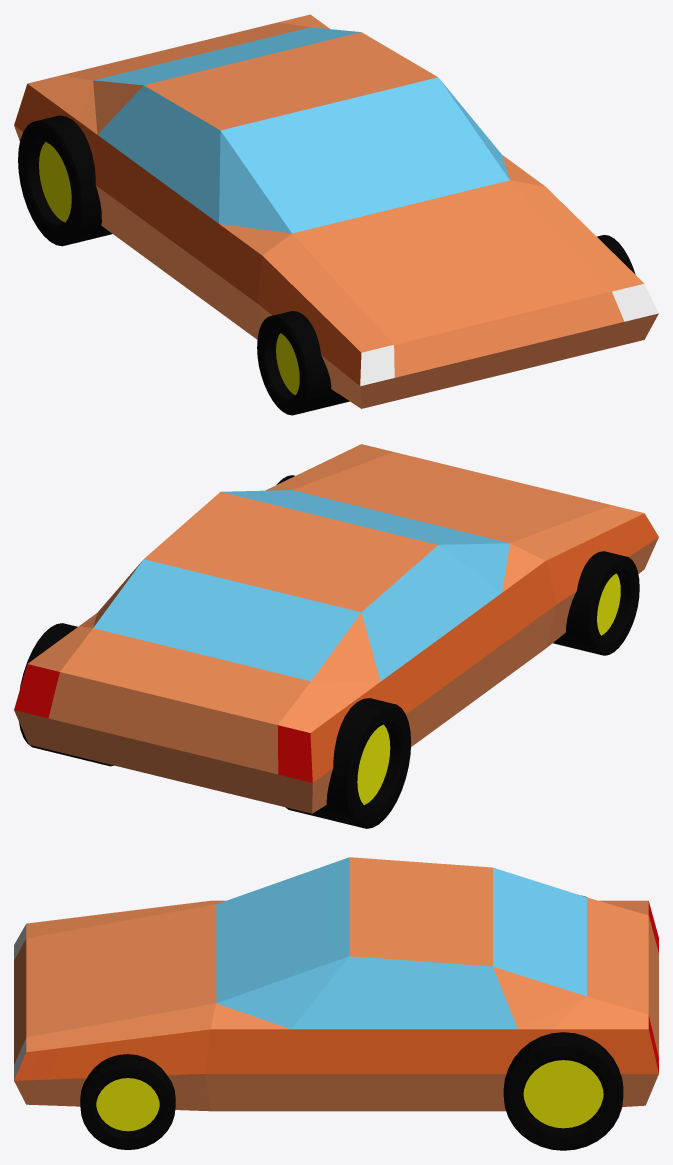
Rendered from car001.fbx.
The picture shows the model from 3 angles, top to bottom: view 1: azimuth 30°, elevation 25°; view 2: azimuth 150°, elevation 25°; view 3: azimuth 270°, elevation 25°; orthographic projection. The views are drawn at different scales.
Visible parts, largest first — view 1: Car; view 2: Car; view 3: Car.
Part boxes in pixels (x1=…): Car: x1=14, y1=14, x2=658, y2=415; Car: x1=14, y1=444, x2=658, y2=828; Car: x1=14, y1=857, x2=658, y2=1150.
Bounding box in the file's own units: 271 × 140 × 485.
Materials: 2 (2 with a texture image).
